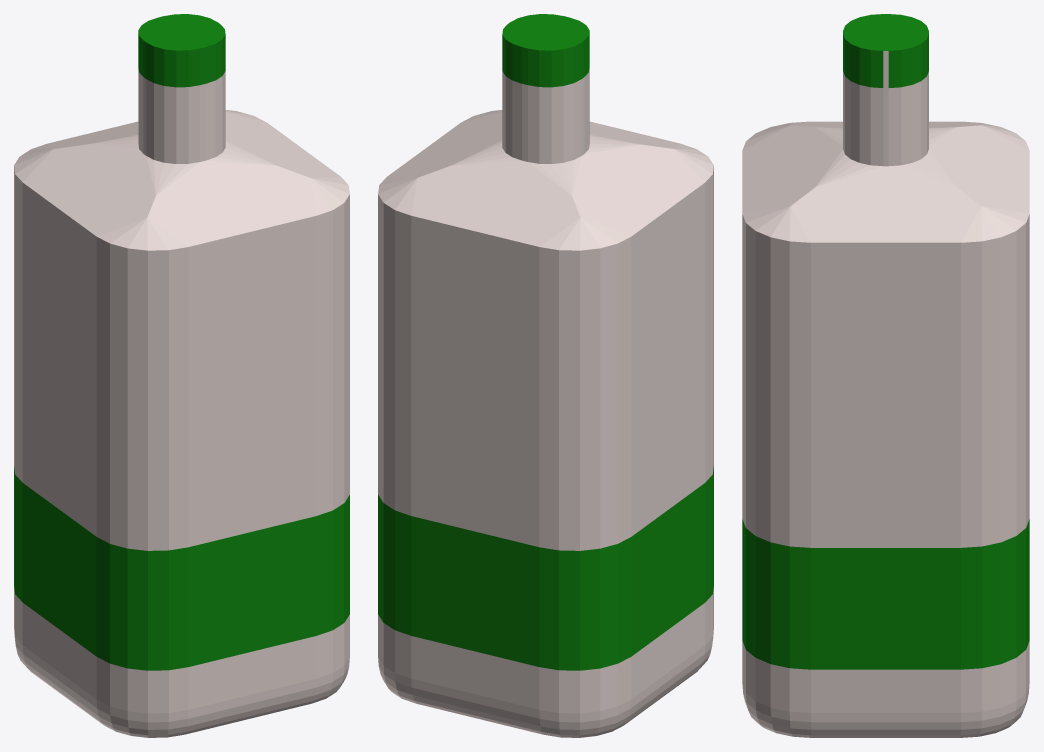
The model's file is 2pt_semi_skimmed.glb.
3 views of the same model, side by side, from view 1: azimuth 30°, elevation 25°; view 2: azimuth 150°, elevation 25°; view 3: azimuth 270°, elevation 25° (orthographic).
Parts seen in each view (by area): view 1: Cube, Cube.001, Cube.002; view 2: Cube, Cube.001, Cube.002; view 3: Cube, Cube.001, Cube.002.
Part boxes in pixels (x1,y1,x2,y2): Cube: (14, 68, 349, 737); Cube.001: (14, 466, 349, 670); Cube.002: (138, 14, 225, 87); Cube: (378, 68, 713, 737); Cube.001: (378, 466, 713, 670); Cube.002: (502, 14, 589, 87); Cube: (742, 51, 1029, 737); Cube.001: (742, 519, 1029, 669); Cube.002: (843, 14, 928, 87).
Size of the model in its own units: 0.2 by 0.5 by 0.2.
